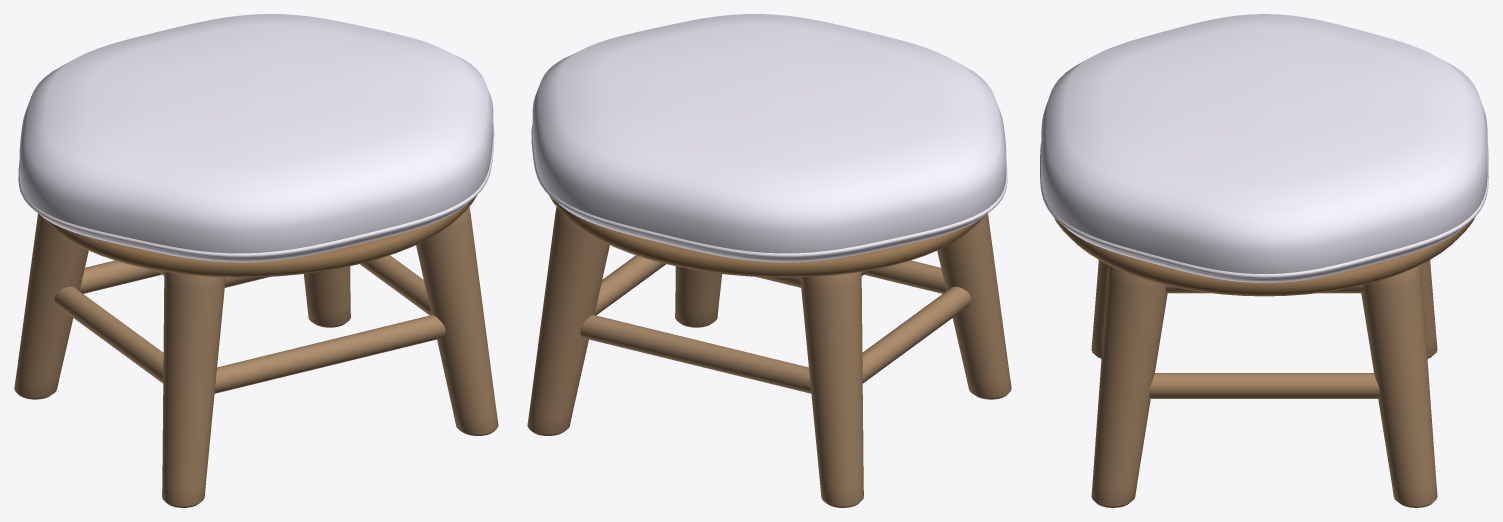
3 renders of one model, left to right at view 1: azimuth 30°, elevation 25°; view 2: azimuth 150°, elevation 25°; view 3: azimuth 270°, elevation 25°, orthographic. The views are drawn at different scales.
Parts seen in each view (by area): view 1: CloudUpholstery, OakLeg_-1_1, OakLeg_1_1, OakLeg_-1_-1, OakSeatBase, LowerStretcherAcross_1, LowerStretcherSide_-1, UpholsteryPiping, OakLeg_1_-1, LowerStretcherSide_1, LowerStretcherAcross_-1; view 2: CloudUpholstery, OakLeg_-1_-1, OakLeg_1_-1, OakLeg_-1_1, OakSeatBase, LowerStretcherAcross_-1, LowerStretcherSide_-1, UpholsteryPiping, OakLeg_1_1, LowerStretcherSide_1, LowerStretcherAcross_1; view 3: CloudUpholstery, OakLeg_1_-1, OakLeg_1_1, OakSeatBase, LowerStretcherSide_1, UpholsteryPiping, OakLeg_-1_-1, OakLeg_-1_1.
Boxes of the visible parts, x1,y1,x2,y2 form: CloudUpholstery: (19,14,493,262); OakLeg_-1_1: (162,271,225,507); OakLeg_1_1: (416,207,498,435); OakLeg_-1_-1: (14,213,88,399); OakSeatBase: (41,195,476,277); LowerStretcherAcross_1: (214,315,445,393); LowerStretcherSide_-1: (54,286,163,383); UpholsteryPiping: (18,124,494,258); OakLeg_1_-1: (303,266,350,327); LowerStretcherSide_1: (360,255,431,315); LowerStretcherAcross_-1: (79,260,161,293); CloudUpholstery: (532,14,1006,262); OakLeg_-1_-1: (800,271,863,507); OakLeg_1_-1: (527,207,609,435); OakLeg_-1_1: (937,213,1011,399); OakSeatBase: (549,195,984,277); LowerStretcherAcross_-1: (580,315,811,393); LowerStretcherSide_-1: (862,286,971,383); UpholsteryPiping: (531,124,1007,258); OakLeg_1_1: (675,266,722,327); LowerStretcherSide_1: (594,255,665,315); LowerStretcherAcross_1: (864,260,946,293); CloudUpholstery: (1041,14,1487,282); OakLeg_1_-1: (1361,265,1437,507); OakLeg_1_1: (1091,265,1167,507); OakSeatBase: (1053,217,1475,296); LowerStretcherSide_1: (1149,373,1379,398); UpholsteryPiping: (1040,143,1488,278); OakLeg_-1_-1: (1420,260,1437,358); OakLeg_-1_1: (1091,260,1108,358).
Size of the model in its own units: 0.8098 by 0.56 by 0.6962.
